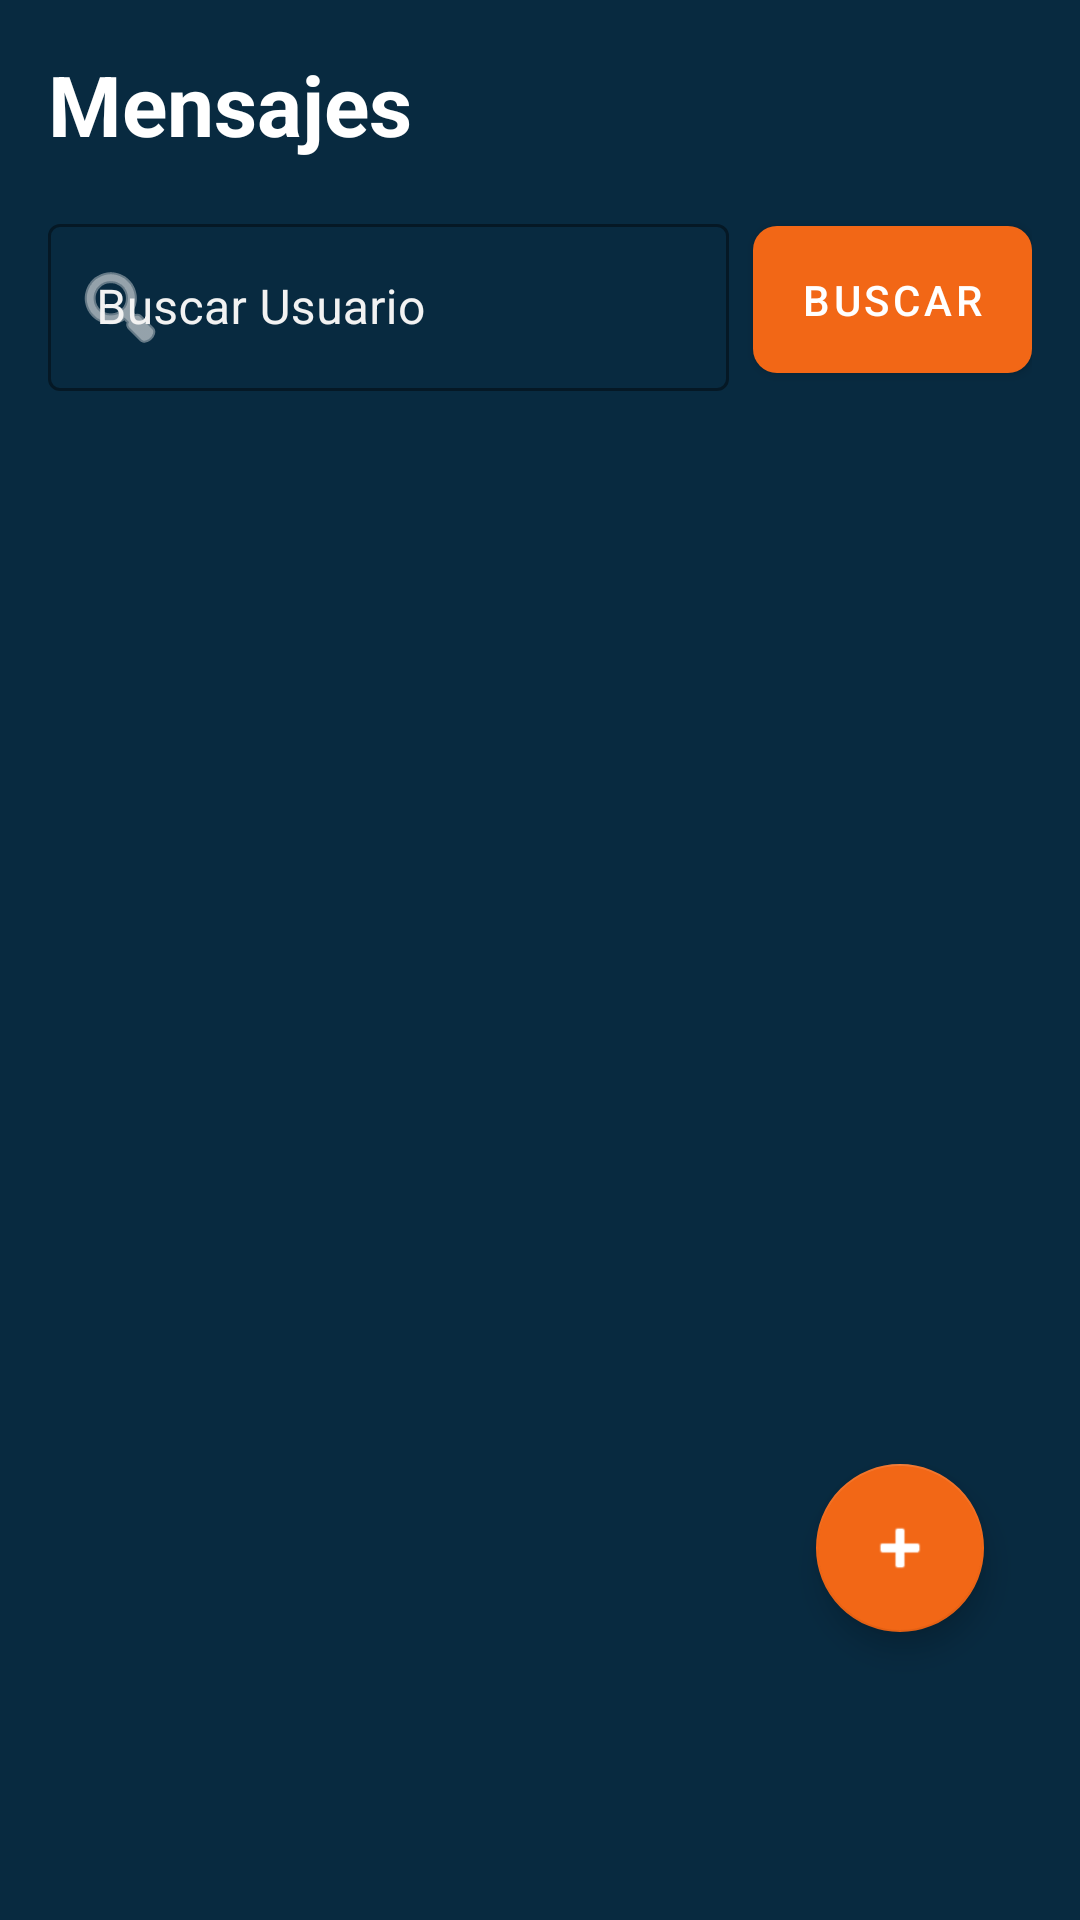

Icons on this 1080w x 1920h Android screen, each with its box as {"left": x1, "top": y1, "right": x2, "bottom": y2}:
Agregar nueva publicación: {"left": 816, "top": 1464, "right": 984, "bottom": 1632}
